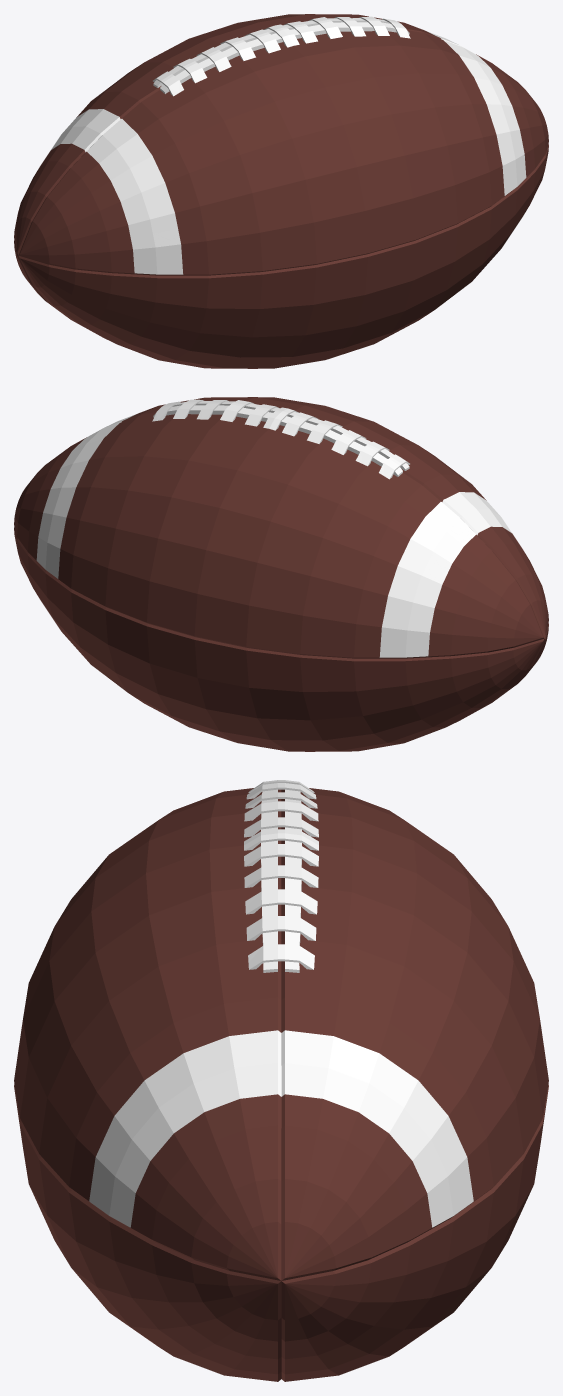
The model's file is Football.glb.
3 views of the same model, one above another, from view 1: azimuth 30°, elevation 25°; view 2: azimuth 150°, elevation 25°; view 3: azimuth 270°, elevation 25° (orthographic). The views are drawn at different scales.
Parts seen in each view (by area): view 1: Football; view 2: Football; view 3: Football.
Part boxes in pixels (x1,y1,x2,y2): Football: (14,14,548,368); Football: (14,397,548,751); Football: (14,780,548,1381).
Size of the model in its own units: 1.37 by 0.7933 by 0.7816.
